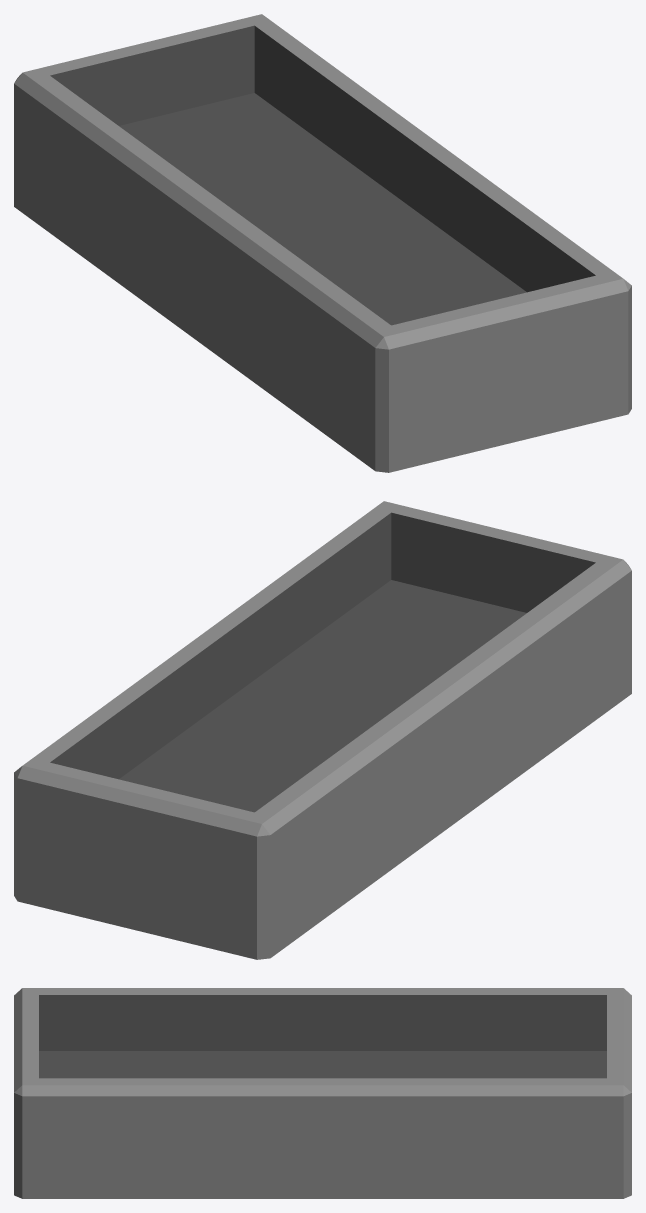
File: planter.FBX
The picture shows the model from 3 angles, top to bottom: view 1: azimuth 30°, elevation 25°; view 2: azimuth 150°, elevation 25°; view 3: azimuth 270°, elevation 25°; orthographic projection. The views are drawn at different scales.
Parts seen in each view (by area): view 1: planter; view 2: planter; view 3: planter.
Boxes of the visible parts, bbox=[...] form: planter: bbox=[14, 14, 631, 472]; planter: bbox=[14, 501, 631, 959]; planter: bbox=[14, 988, 631, 1198].
Size of the model in its own units: 42.95 by 21.15 by 108.
